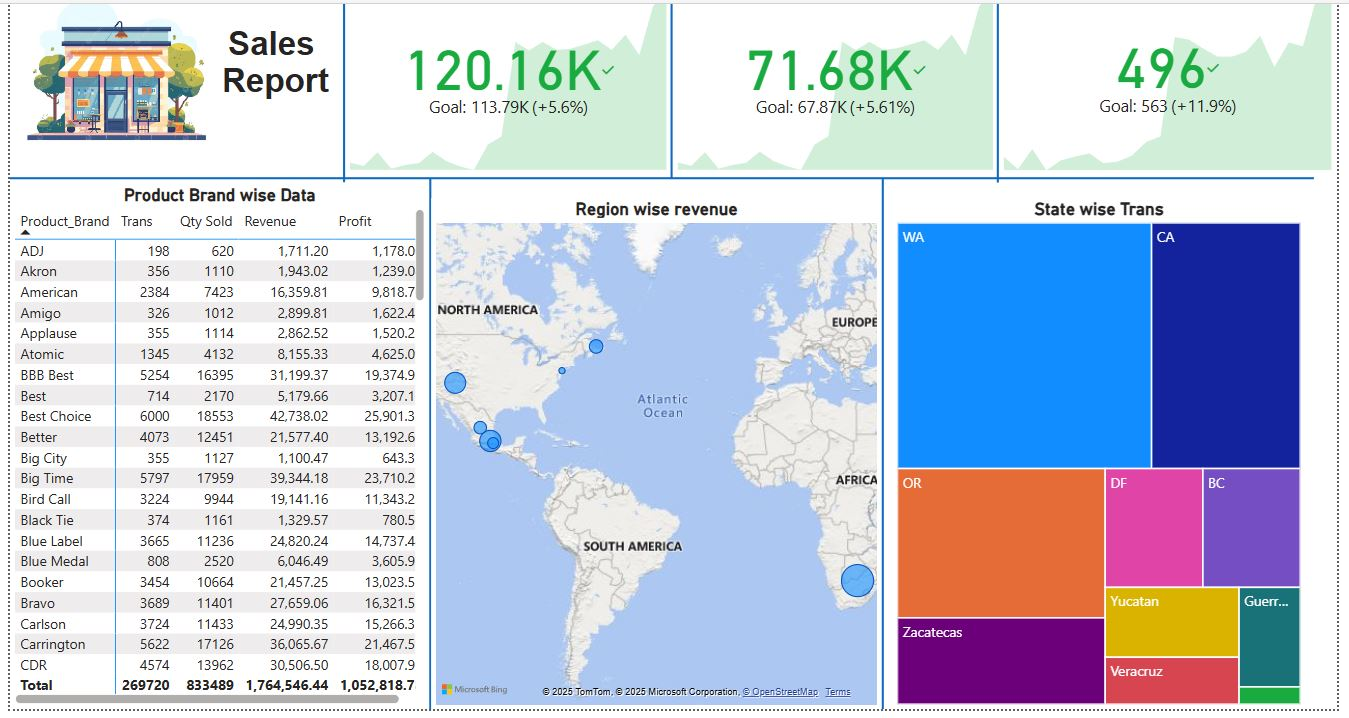

The page's visual inventory and layout, read from the dashboard file:
{"tool":"powerbi","page":{"name":"BI Report","canvas":[1280,720],"ordinal":0},"visuals":[{"type":"pivotTable","title":"Product Brand wise Data","fields":{"Rows":["D_Products.product_brand"],"Values":["Measure_Table.M_total_transation","Measure_Table.M_quantity","Measure_Table.M_total_revenu","Measure_Table.M_profit"]},"box":[0,213.8,405,506.2],"z":0},{"type":"shape","box":[380,207.5,51.2,512.5],"z":1000},{"type":"shape","box":[0,201.2,1258.8,12.5],"z":2000},{"type":"map","title":"Region wise revenue","fields":{"Category":["D_Regions.sales_region"],"Size":["Measure_Table.M_total_revenu"]},"box":[406.2,226.2,435,493.8],"z":3000},{"type":"shape","box":[816.2,207.5,51.2,512.5],"z":4000},{"type":"treemap","title":"State wise Trans","fields":{"Group":["D_Stores.store_state"],"Values":["Measure_Table.M_total_transation"]},"box":[851.2,226.2,398.8,493.8],"z":5000},{"type":"kpi","title":"Revenue vs Prev. month","fields":{"TrendLine":["D_Calendar.Start of Month"],"Goal":["Measure_Table.M_previous_month_revenue"],"Indicator":["Measure_Table.M_total_revenu"]},"box":[323.7,3.9,315.8,201.3],"z":6000},{"type":"textbox","box":[0,3.6,310.1,197.9],"z":7000},{"type":"shape","box":[297.4,3.9,51.3,207.9],"z":8000},{"type":"kpi","title":"Returns vs Prev. month","fields":{"TrendLine":["D_Calendar.Start of Month"],"Indicator":["Measure_Table.M_Total_returns"],"Goal":["Measure_Table.M_previous_month_returns"]},"box":[954,0,326.3,205.3],"z":9000},{"type":"kpi","title":"Profit vs Prev. month","fields":{"TrendLine":["D_Calendar.Start of Month"],"Indicator":["Measure_Table.M_profit"],"Goal":["Measure_Table.M_previous_month_profits"]},"box":[639.5,3.9,314.5,201.3],"z":10000},{"type":"shape","box":[613.2,0,51.3,207.9],"z":11000},{"type":"shape","box":[927.6,0,51.3,211.8],"z":12000}]}

Visuals, with their boxes in screenshot pixels (x1, y1, x2, y2):
"Product Brand wise Data" pivotTable: Rect(18, 186, 430, 701)
shape: Rect(404, 180, 456, 701)
shape: Rect(18, 173, 1299, 186)
"Region wise revenue" map: Rect(431, 199, 874, 701)
shape: Rect(848, 180, 900, 701)
"State wise Trans" treemap: Rect(884, 199, 1290, 701)
"Revenue vs Prev. month" kpi: Rect(347, 0, 668, 177)
textbox: Rect(18, 0, 333, 173)
shape: Rect(320, 0, 372, 184)
"Returns vs Prev. month" kpi: Rect(988, 0, 1320, 177)
"Profit vs Prev. month" kpi: Rect(668, 0, 988, 177)
shape: Rect(642, 0, 694, 180)
shape: Rect(962, 0, 1014, 184)
